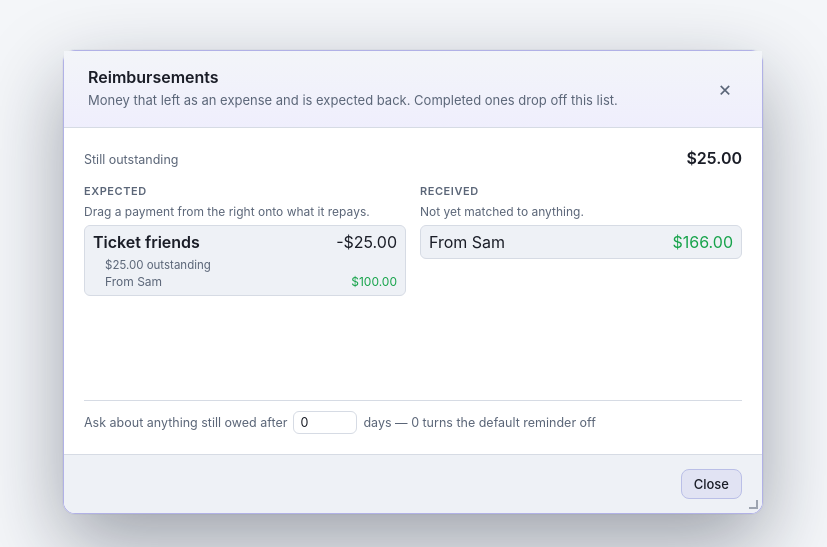
dragging a payment onto what it repays › refuses a drop the click-driven list would not have offered
The width and height of the screenshot is (827, 547).
Check: the text "Ticket friends" is shown, box [93,232,200,252]
Step 1. Press the mouse on the button "From Sam $166.00" → (467, 242), box [420,224,742,258]
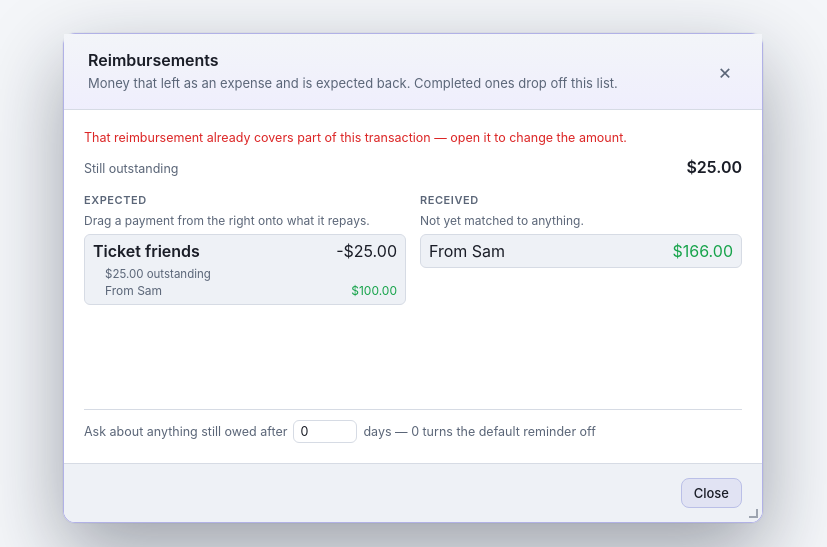
Check: the text "already covers part of this transaction" is shown, box [84,130,627,145]
